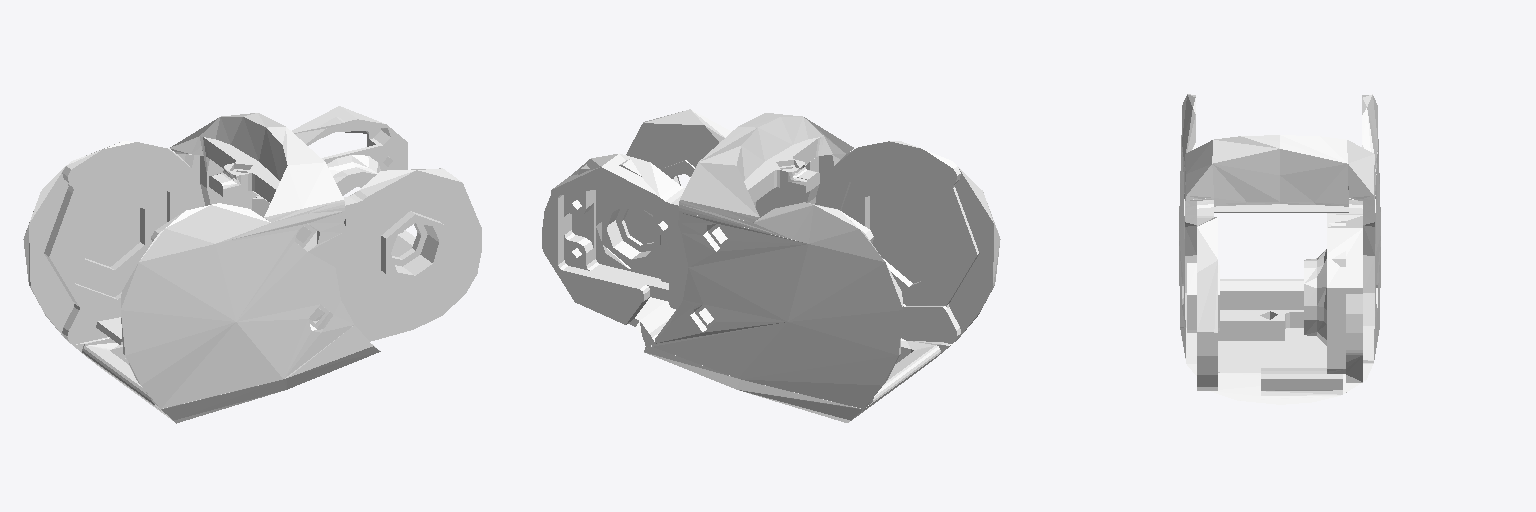
Rendered from hit-hand-2-finger-phamed.obj.
The picture shows the model from 3 angles: view 1: azimuth 30°, elevation 25°; view 2: azimuth 150°, elevation 25°; view 3: azimuth 270°, elevation 25°; orthographic projection.
Parts seen in each view (by area): view 1: IndexedTriangleStripSet_8_IndexedTriangleStripSet_9, IndexedTriangleStripSet_6_IndexedTriangleStripSet_7, IndexedTriangleStripSet_IndexedTriangleStripSet_1, IndexedTriangleStripSet_4_IndexedTriangleStripSet_5, IndexedTriangleStripSet_2_IndexedTriangleStripSet_3; view 2: IndexedTriangleStripSet_8_IndexedTriangleStripSet_9, IndexedTriangleStripSet_6_IndexedTriangleStripSet_7, IndexedTriangleStripSet_4_IndexedTriangleStripSet_5, IndexedTriangleStripSet_IndexedTriangleStripSet_1, IndexedTriangleStripSet_2_IndexedTriangleStripSet_3; view 3: IndexedTriangleStripSet_8_IndexedTriangleStripSet_9, IndexedTriangleStripSet_6_IndexedTriangleStripSet_7, IndexedTriangleStripSet_IndexedTriangleStripSet_1, IndexedTriangleStripSet_4_IndexedTriangleStripSet_5, IndexedTriangleStripSet_2_IndexedTriangleStripSet_3.
Part boxes in pixels (bbox=[...]): IndexedTriangleStripSet_8_IndexedTriangleStripSet_9: bbox=[23, 106, 481, 423]; IndexedTriangleStripSet_6_IndexedTriangleStripSet_7: bbox=[29, 106, 480, 418]; IndexedTriangleStripSet_IndexedTriangleStripSet_1: bbox=[29, 126, 481, 389]; IndexedTriangleStripSet_4_IndexedTriangleStripSet_5: bbox=[31, 117, 481, 420]; IndexedTriangleStripSet_2_IndexedTriangleStripSet_3: bbox=[38, 127, 481, 377]; IndexedTriangleStripSet_8_IndexedTriangleStripSet_9: bbox=[543, 109, 1000, 420]; IndexedTriangleStripSet_6_IndexedTriangleStripSet_7: bbox=[542, 117, 998, 416]; IndexedTriangleStripSet_4_IndexedTriangleStripSet_5: bbox=[558, 117, 955, 422]; IndexedTriangleStripSet_IndexedTriangleStripSet_1: bbox=[542, 110, 993, 386]; IndexedTriangleStripSet_2_IndexedTriangleStripSet_3: bbox=[584, 117, 953, 418]; IndexedTriangleStripSet_8_IndexedTriangleStripSet_9: bbox=[1179, 94, 1380, 400]; IndexedTriangleStripSet_6_IndexedTriangleStripSet_7: bbox=[1179, 94, 1380, 404]; IndexedTriangleStripSet_IndexedTriangleStripSet_1: bbox=[1184, 136, 1377, 389]; IndexedTriangleStripSet_4_IndexedTriangleStripSet_5: bbox=[1179, 112, 1380, 395]; IndexedTriangleStripSet_2_IndexedTriangleStripSet_3: bbox=[1179, 94, 1377, 360].
Bounding box in the file's own units: 0.0439 × 0.0287 × 0.0209.